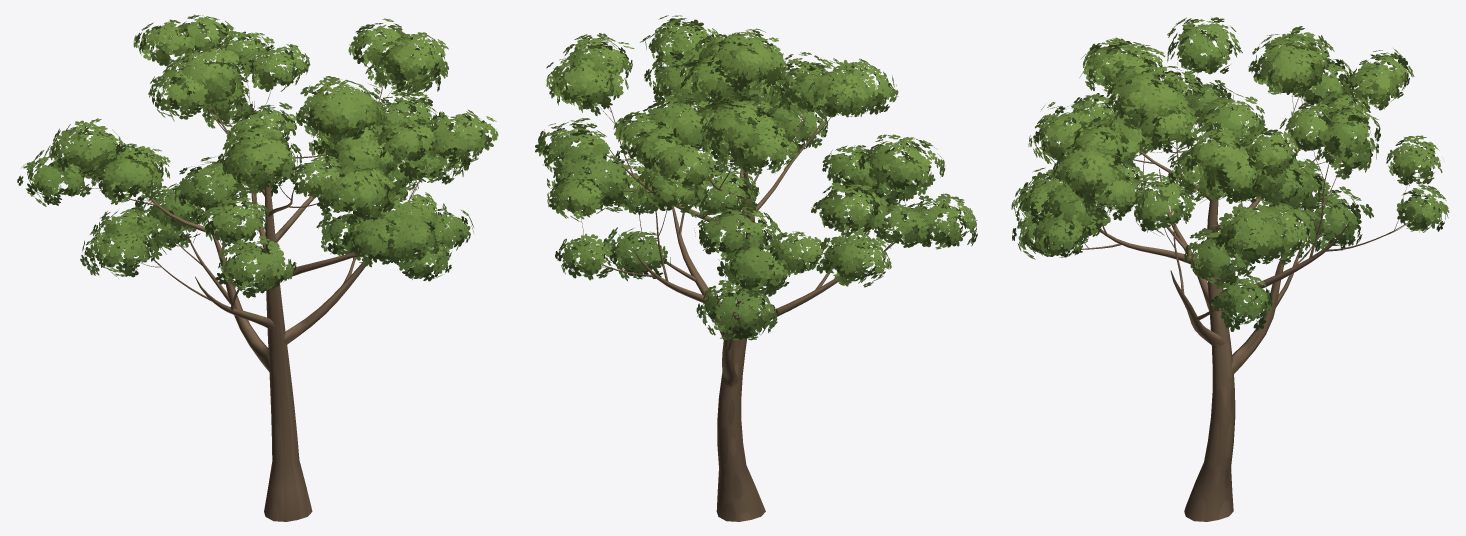
The model's file is tree.gltf.
The picture shows the model from 3 angles, left to right: view 1: azimuth 30°, elevation 25°; view 2: azimuth 150°, elevation 25°; view 3: azimuth 270°, elevation 25°; orthographic projection.
Visible parts, largest first — view 1: Tree_LOD0; view 2: Tree_LOD0; view 3: Tree_LOD0.
Boxes of the visible parts, left/top/right/bottom form: Tree_LOD0: left=17, top=14, right=498, bottom=521; Tree_LOD0: left=535, top=15, right=977, bottom=521; Tree_LOD0: left=1011, top=17, right=1449, bottom=521.
Bounding box in the file's own units: 19.86 × 21.43 × 18.83.
2 materials, 2 textured.
